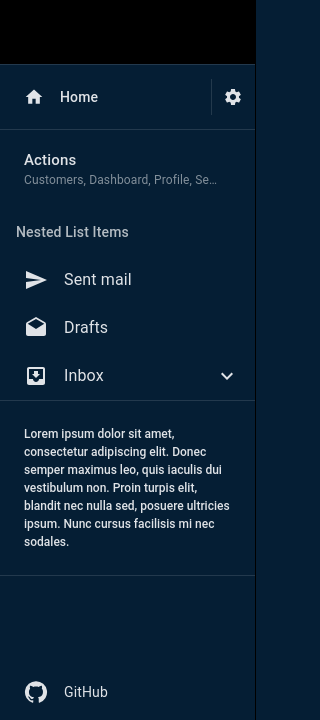
Test: When the SideMenu component is loaded › it should open the inbox list when the inbox list button is clicked
Click the icon with test id "MoveToInboxIcon": (36, 376) [24,364,48,388]
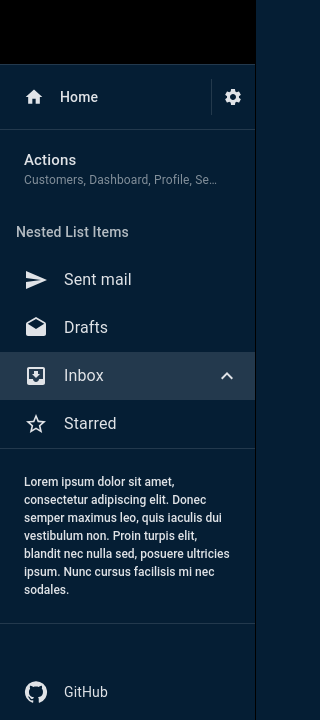
Check: the button "Starred" is shown, box [24,412,117,436]
